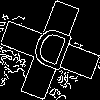D: (25, 25, 75, 81)
